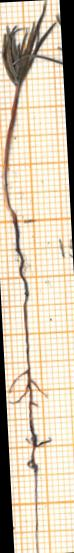flower: (0, 0, 61, 92)
root: (0, 221, 58, 553)
stem: (0, 93, 30, 221)
